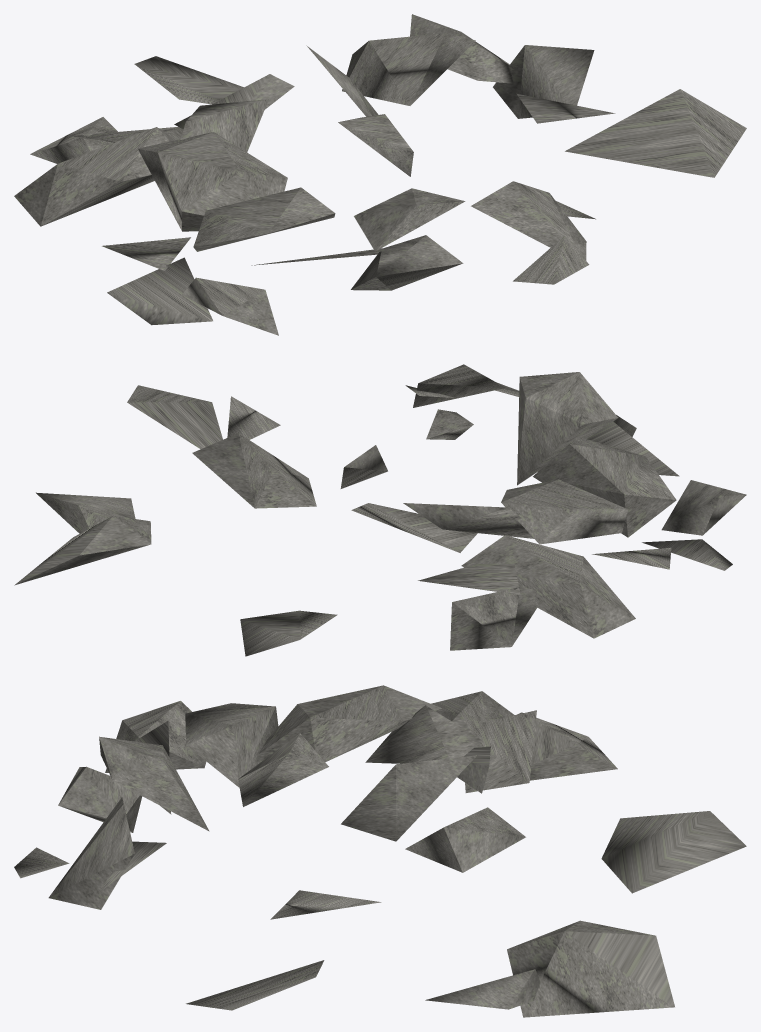
File: rock_highlands_scree_a_lod2.glb
The picture shows the model from 3 angles, top to bottom: view 1: azimuth 30°, elevation 25°; view 2: azimuth 150°, elevation 25°; view 3: azimuth 270°, elevation 25°; orthographic projection. The views are drawn at different scales.
Parts seen in each view (by area): view 1: rock_highlands_scree_a; view 2: rock_highlands_scree_a; view 3: rock_highlands_scree_a.
Boxes of the visible parts, x1,y1,x2,y2 form: rock_highlands_scree_a: [14, 14, 746, 335]; rock_highlands_scree_a: [14, 364, 746, 656]; rock_highlands_scree_a: [14, 685, 746, 1017].
Size of the model in its own units: 2.53 by 0.4846 by 2.41.
Materials: 1 (1 with a texture image).
